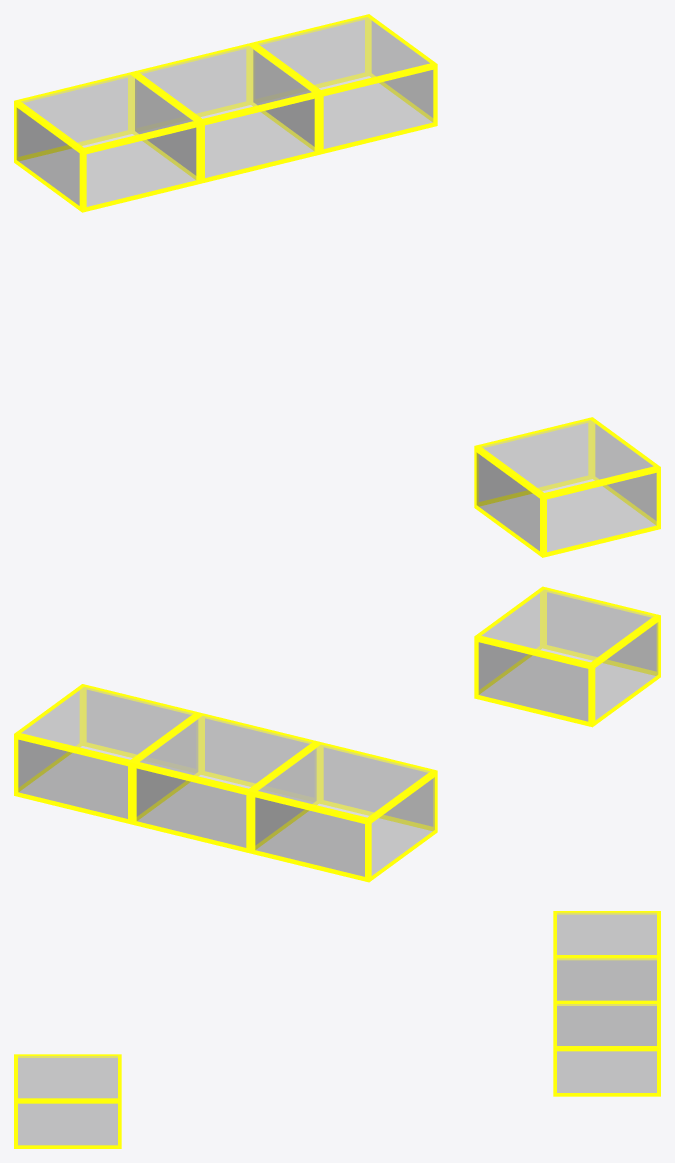
The model's file is (5)M Plat.fbx.
3 renders of one model, top to bottom at view 1: azimuth 30°, elevation 25°; view 2: azimuth 150°, elevation 25°; view 3: azimuth 270°, elevation 25°, orthographic. The views are drawn at different scales.
Visible parts, largest first — view 1: Platform.005, Platform.002, Platform.003, Platform.004; view 2: Platform.002, Platform.005, Platform.004, Platform.003; view 3: Platform.004, Platform.005, Platform.003, Platform.002.
Boxes of the visible parts, x1,y1,x2,y2 form: Platform.005: (474,417,660,557); Platform.002: (14,72,200,212); Platform.003: (132,43,319,183); Platform.004: (250,14,437,154); Platform.002: (250,741,437,882); Platform.005: (474,586,660,727); Platform.004: (14,684,200,824); Platform.003: (132,713,318,853); Platform.004: (553,1002,660,1096); Platform.005: (14,1054,121,1148); Platform.003: (553,956,660,1045); Platform.002: (553,911,660,1000).
Size of the model in its own units: 600 by 300 by 1200.
